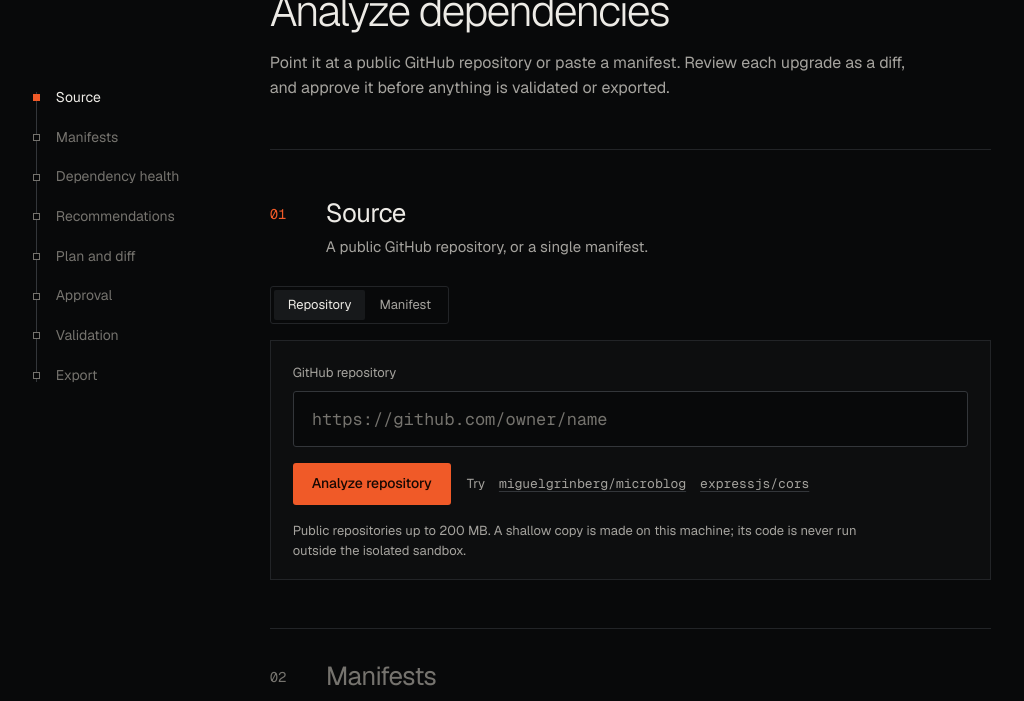
it: ManifestAnalyzer Component › disables plan building for review-only manifests
Click the tab with test id "source-manifest".
click(405, 305)  # box [366,290,445,320]
(page scrolled)
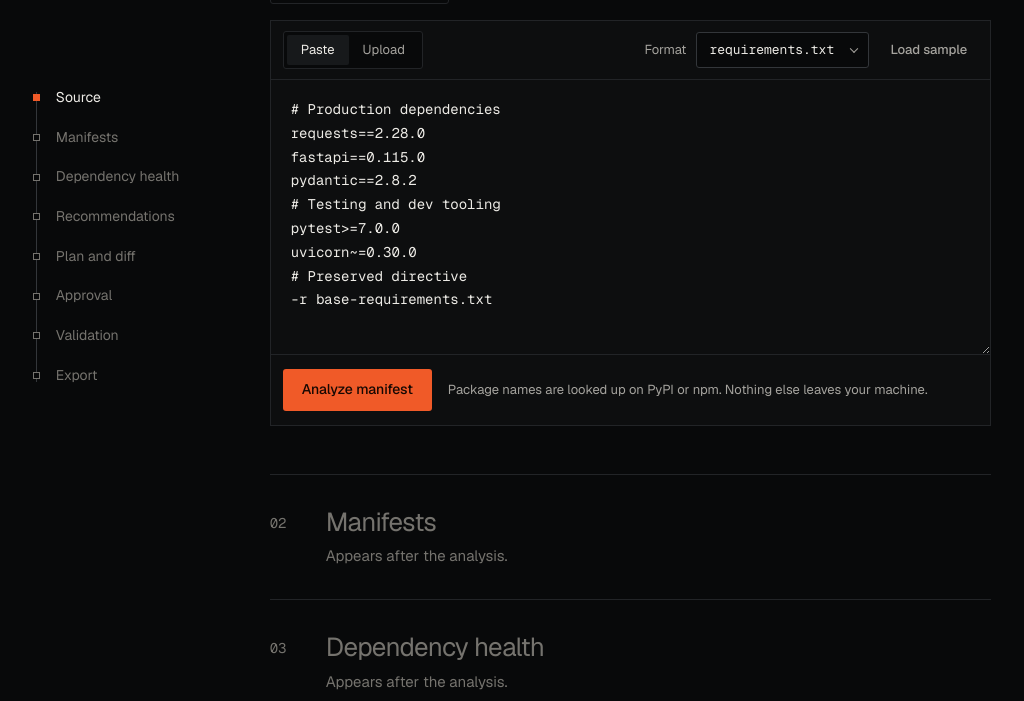
Click the button with test id "btn-analyze".
click(357, 390)  # box [283,369,432,411]
(page scrolled)
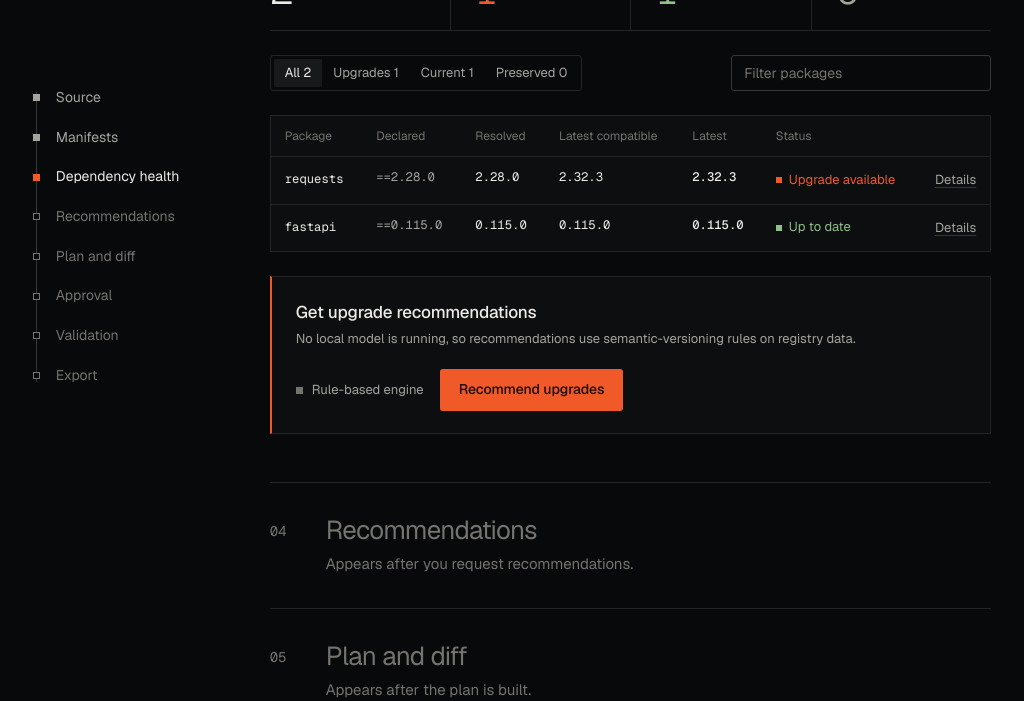
Click the button with test id "btn-generate-recommendations".
click(532, 390)  # box [440,369,623,411]
(page scrolled)
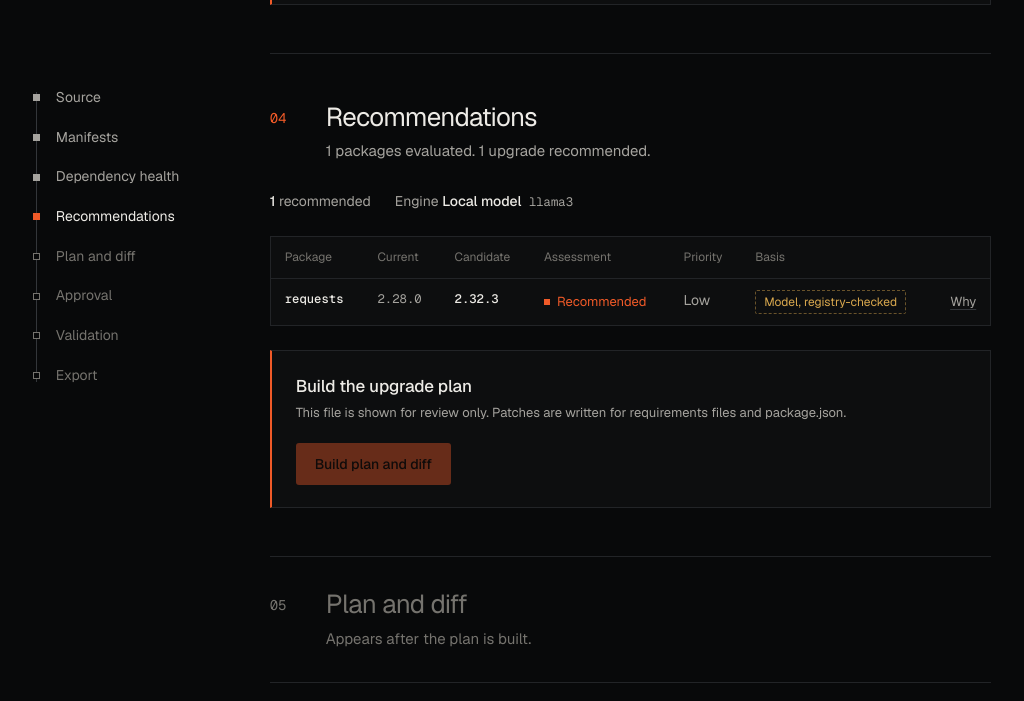
Check: the button with test id "btn-generate-plan" is disabled, box [296,444,451,486]
Check: the text "shown for review only" is shown, box [296,404,846,421]
